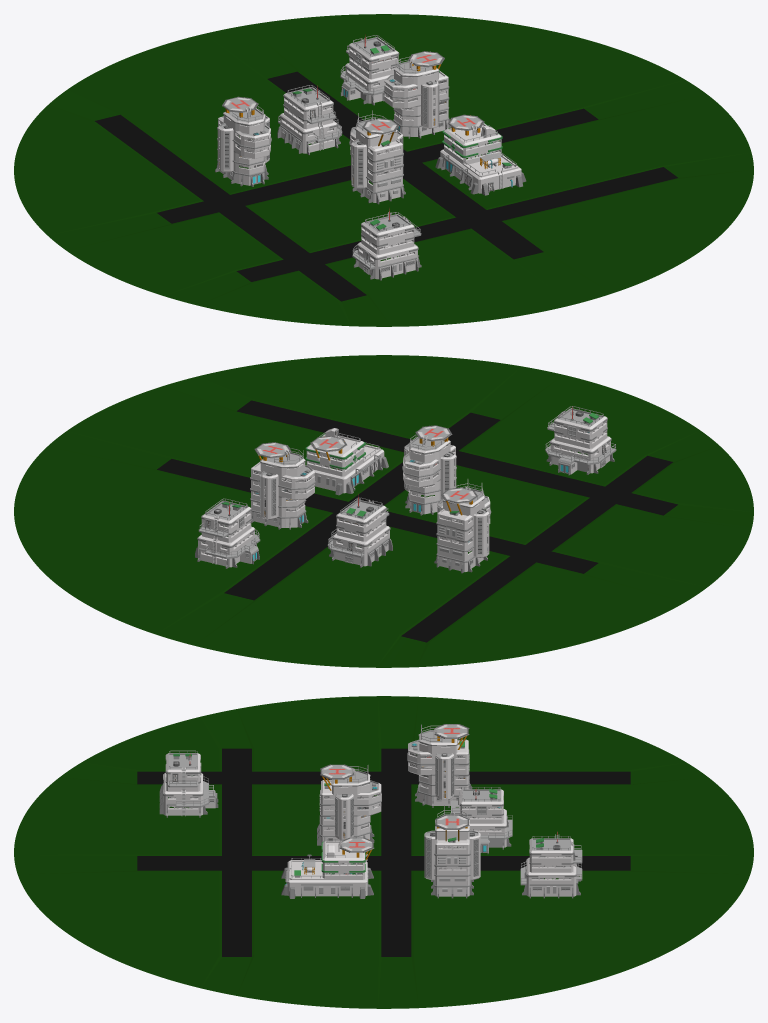
The model's file is city.FBX.
3 renders of one model, top to bottom at view 1: azimuth 30°, elevation 25°; view 2: azimuth 150°, elevation 25°; view 3: azimuth 270°, elevation 25°, orthographic.
Visible parts, largest first — view 1: Plane001, Roads, Cube_052_Cube_048, Cube_060_Cube_113, Cube_060_Cube_112, Cube_060_Cube_111, Cube_041_Cube_101, Cube_041_Cube_100, Cube_041_Cube_102; view 2: Plane001, Roads, Cube_060_Cube_113, Cube_060_Cube_111, Cube_060_Cube_112, Cube_041_Cube_101, Cube_052_Cube_048, Cube_041_Cube_102, Cube_041_Cube_100; view 3: Plane001, Roads, Cube_052_Cube_048, Cube_060_Cube_111, Cube_060_Cube_112, Cube_060_Cube_113, Cube_041_Cube_102, Cube_041_Cube_101, Cube_041_Cube_100.
Boxes of the visible parts, x1,y1,x2,y2 form: Plane001: [14, 14, 753, 326]; Roads: [95, 71, 677, 301]; Cube_052_Cube_048: [435, 114, 526, 195]; Cube_060_Cube_113: [383, 51, 451, 138]; Cube_060_Cube_112: [349, 110, 405, 204]; Cube_060_Cube_111: [215, 96, 271, 186]; Cube_041_Cube_101: [352, 207, 421, 280]; Cube_041_Cube_100: [277, 85, 342, 154]; Cube_041_Cube_102: [340, 34, 399, 105]; Plane001: [14, 355, 753, 667]; Roads: [157, 400, 677, 642]; Cube_060_Cube_113: [250, 442, 315, 529]; Cube_060_Cube_111: [434, 479, 491, 573]; Cube_060_Cube_112: [402, 425, 456, 515]; Cube_041_Cube_101: [545, 406, 616, 475]; Cube_052_Cube_048: [305, 428, 388, 495]; Cube_041_Cube_102: [195, 498, 260, 568]; Cube_041_Cube_100: [327, 494, 392, 567]; Plane001: [14, 696, 753, 1008]; Roads: [137, 748, 630, 956]; Cube_052_Cube_048: [281, 837, 374, 898]; Cube_060_Cube_111: [407, 724, 472, 807]; Cube_060_Cube_112: [317, 764, 381, 845]; Cube_060_Cube_113: [424, 805, 480, 898]; Cube_041_Cube_102: [520, 831, 582, 898]; Cube_041_Cube_101: [159, 750, 218, 817]; Cube_041_Cube_100: [451, 787, 512, 853].
Size of the model in its own units: 5848 by 626 by 5848.
5 materials, 3 textured.
